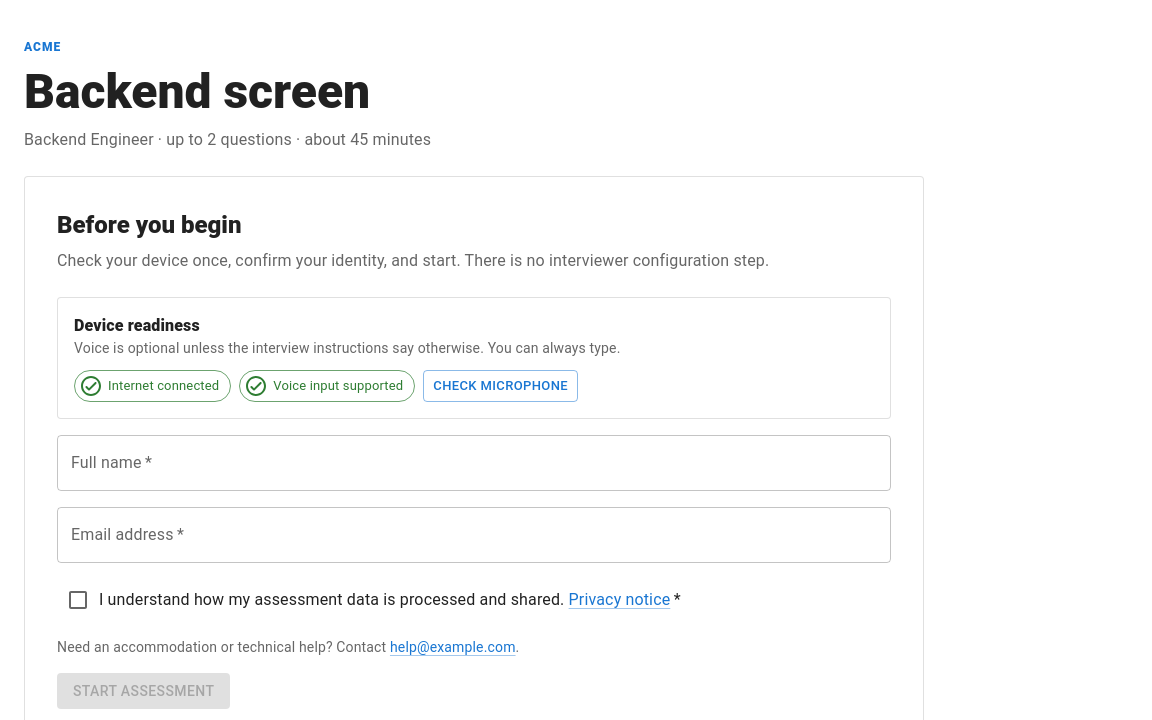
Test: candidate assessment interview UX › shows expectations and consent without exposing private evaluation
Expected: the heading "Backend screen" is shown, [24,63,370,120]
Expected: the text "Backend Engineer · up to 2 questions · about 45 minutes" is shown, [24,130,431,149]
Click the checkbox: {"x": 373, "y": 600} [66,588,681,612]
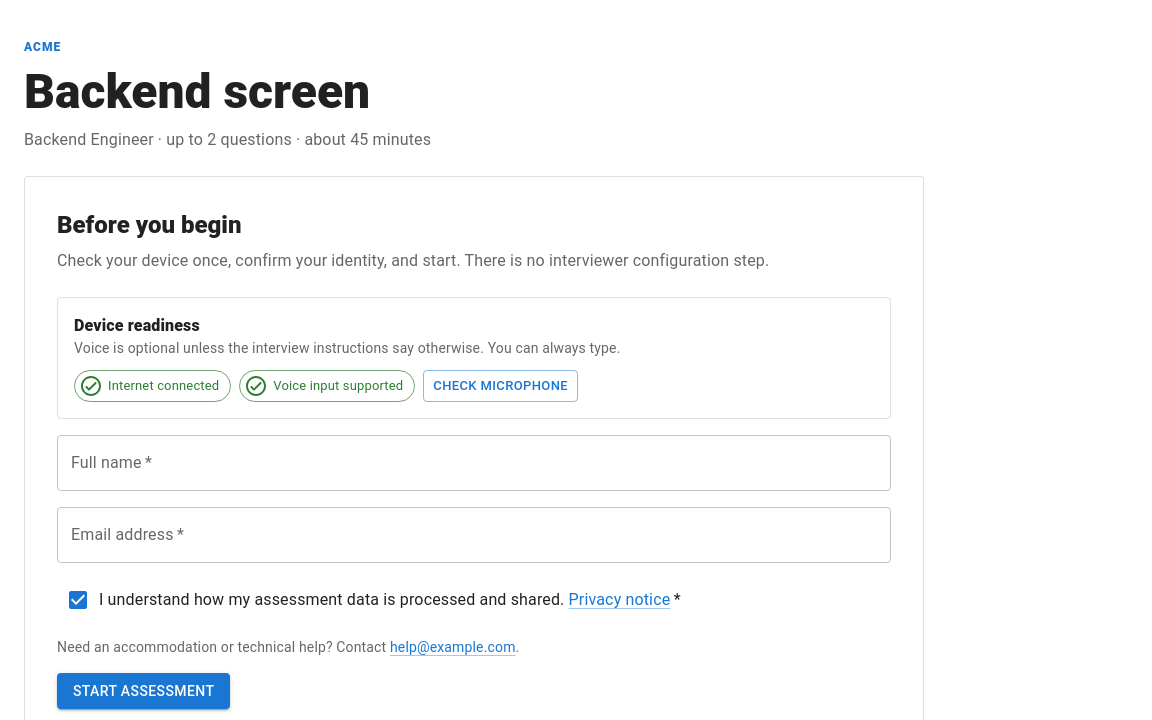
Now the button "Start assessment" is enabled, box [57,673,230,710]
